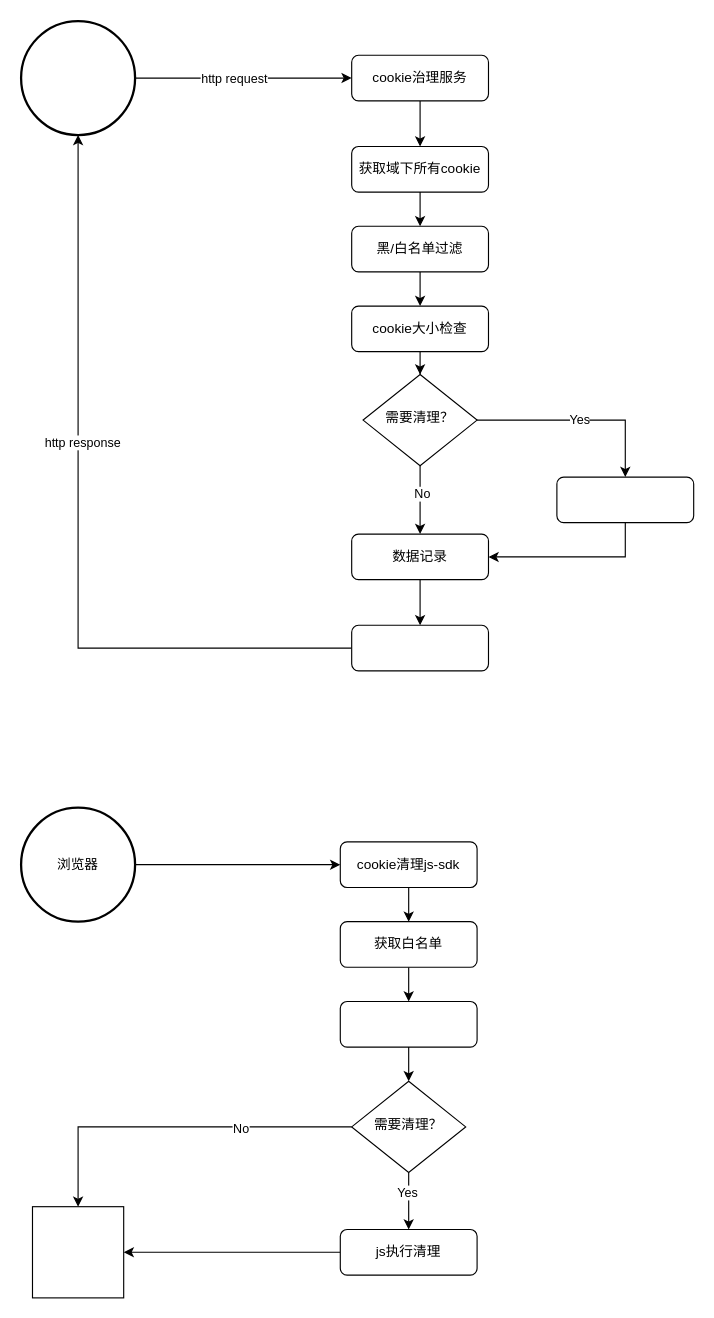
The diagram is 714 pixels wide and 1318 high, and some of its shapes have lost their labels. Here are the shapes that lost their labels. From the top down, the centre of each, then its label:
the point at 77,77: 浏览器/小程序
the point at 625,499: 清理header生成
the point at 419,647: response
the point at 408,1023: 白名单过滤
the point at 77,1252: 结束
